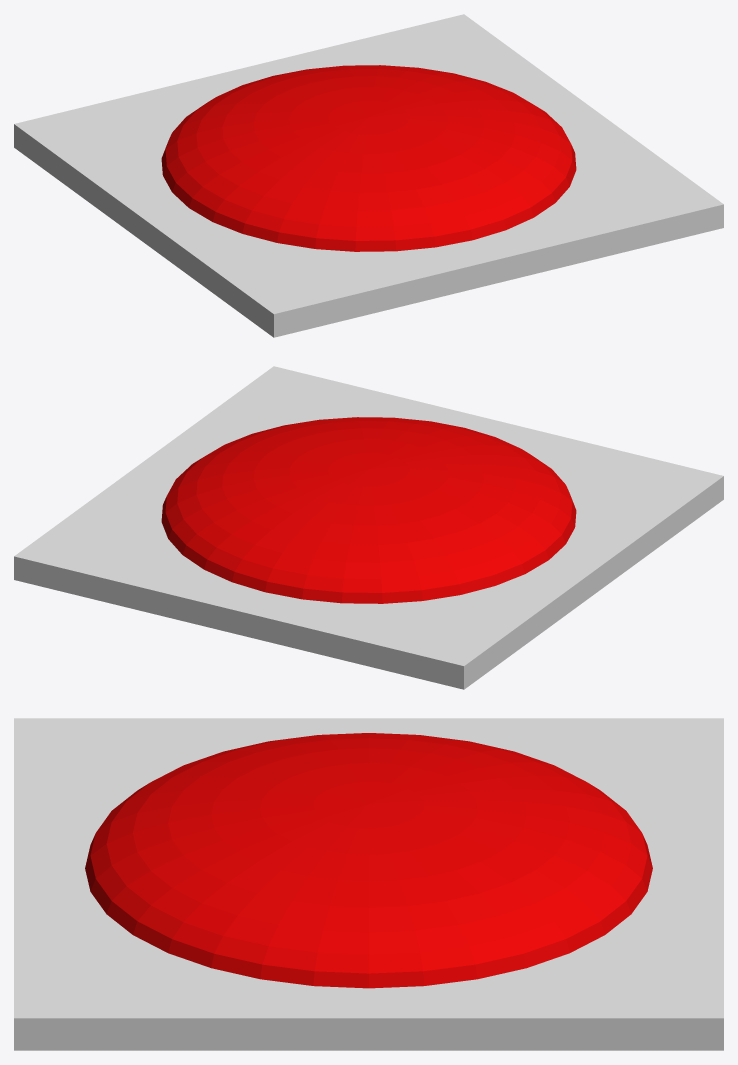
Rendered from PressurePlate.obj.
The picture shows the model from 3 angles, top to bottom: view 1: azimuth 30°, elevation 25°; view 2: azimuth 150°, elevation 25°; view 3: azimuth 270°, elevation 25°; orthographic projection. The views are drawn at different scales.
Visible parts, largest first — view 1: PressurePlate; view 2: PressurePlate; view 3: PressurePlate.
Boxes of the visible parts, x1,y1,x2,y2 form: PressurePlate: [14, 14, 723, 337]; PressurePlate: [14, 366, 723, 689]; PressurePlate: [14, 718, 723, 1050].
Size of the model in its own units: 1 by 0.15 by 1.
1 material, 1 textured.
